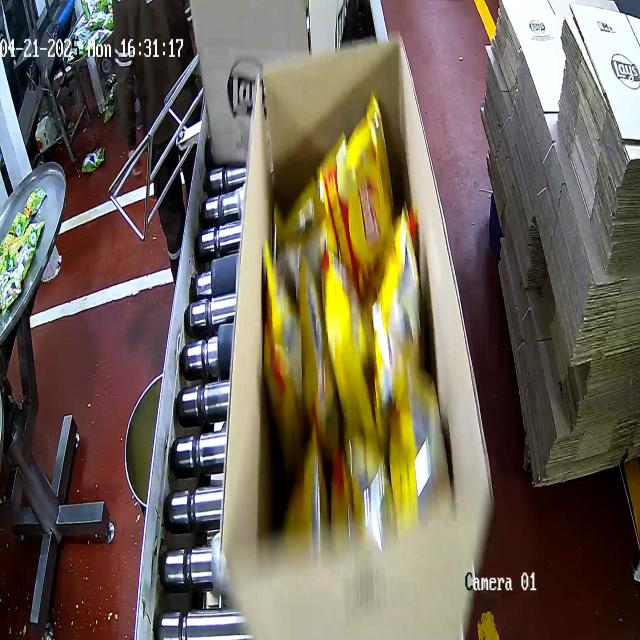SALTED: (252, 126, 459, 536)
